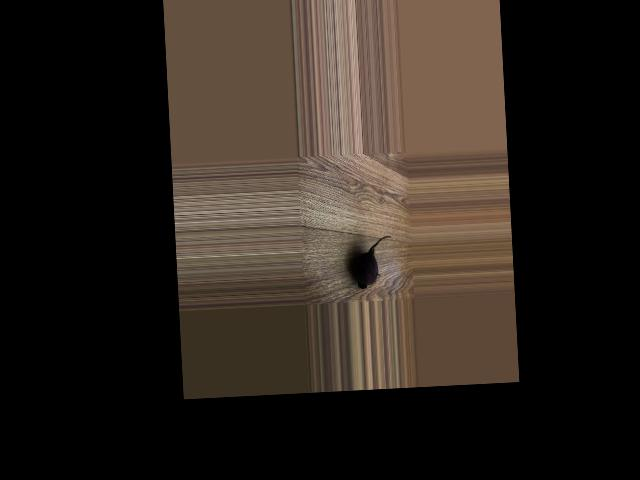beet: (352, 234, 393, 288)
